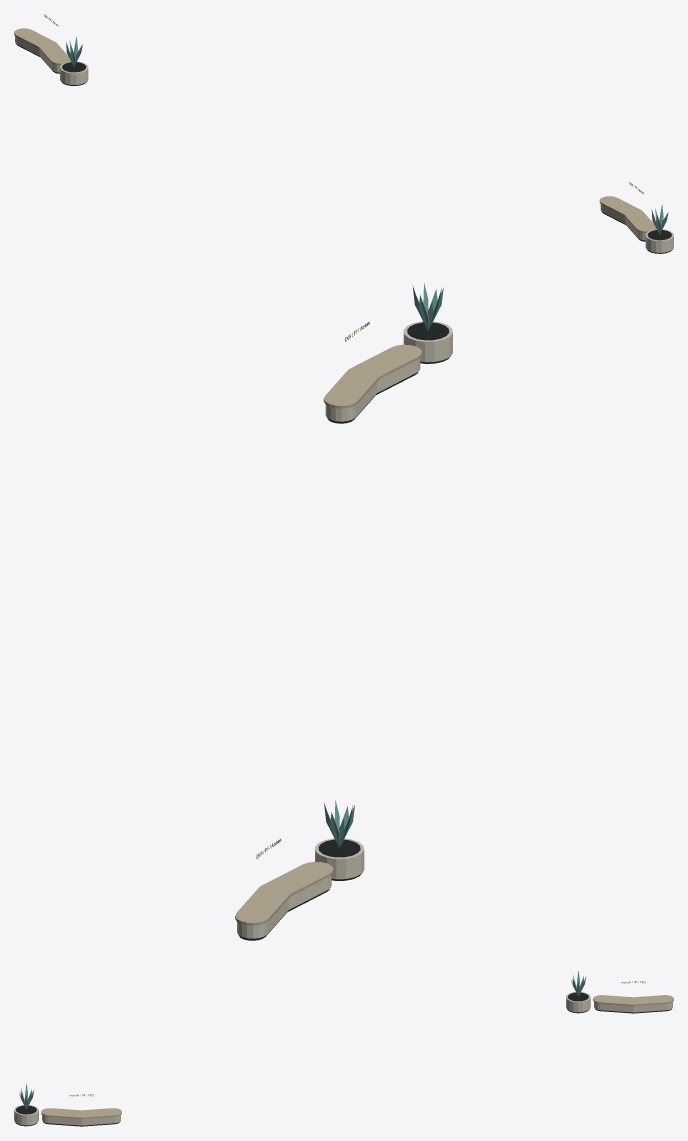
The model's file is COURT_D09_PF_02__fitout.glb.
3 renders of one model, top to bottom at view 1: azimuth 30°, elevation 25°; view 2: azimuth 150°, elevation 25°; view 3: azimuth 270°, elevation 25°, orthographic. The views are drawn at different scales.
Visible parts, largest first — view 1: COURT_D09_PF_02__fitout__oatmeal_weave, COURT_D09_PF_02__fitout__ivory_enamel, COURT_D09_PF_02__fitout__dark_rubber, COURT_D09_PF_02__fitout__quiet_teal; view 2: COURT_D09_PF_02__fitout__oatmeal_weave, COURT_D09_PF_02__fitout__ivory_enamel, COURT_D09_PF_02__fitout__dark_rubber, COURT_D09_PF_02__fitout__quiet_teal; view 3: COURT_D09_PF_02__fitout__ivory_enamel, COURT_D09_PF_02__fitout__oatmeal_weave, COURT_D09_PF_02__fitout__dark_rubber, COURT_D09_PF_02__fitout__quiet_teal.
Boxes of the visible parts, bbox=[...] form: COURT_D09_PF_02__fitout__oatmeal_weave: bbox=[14, 28, 656, 232]; COURT_D09_PF_02__fitout__ivory_enamel: bbox=[15, 36, 673, 252]; COURT_D09_PF_02__fitout__dark_rubber: bbox=[16, 44, 672, 253]; COURT_D09_PF_02__fitout__quiet_teal: bbox=[66, 36, 668, 234]; COURT_D09_PF_02__fitout__oatmeal_weave: bbox=[235, 344, 422, 925]; COURT_D09_PF_02__fitout__ivory_enamel: bbox=[237, 321, 452, 938]; COURT_D09_PF_02__fitout__dark_rubber: bbox=[239, 322, 450, 940]; COURT_D09_PF_02__fitout__quiet_teal: bbox=[324, 283, 443, 847]; COURT_D09_PF_02__fitout__ivory_enamel: bbox=[14, 992, 672, 1125]; COURT_D09_PF_02__fitout__oatmeal_weave: bbox=[41, 995, 673, 1118]; COURT_D09_PF_02__fitout__dark_rubber: bbox=[16, 992, 671, 1126]; COURT_D09_PF_02__fitout__quiet_teal: bbox=[19, 970, 586, 1109].
Size of the model in its own units: 13.85 by 1.85 by 31.09.
Materials: 5 (4 with a texture image).
